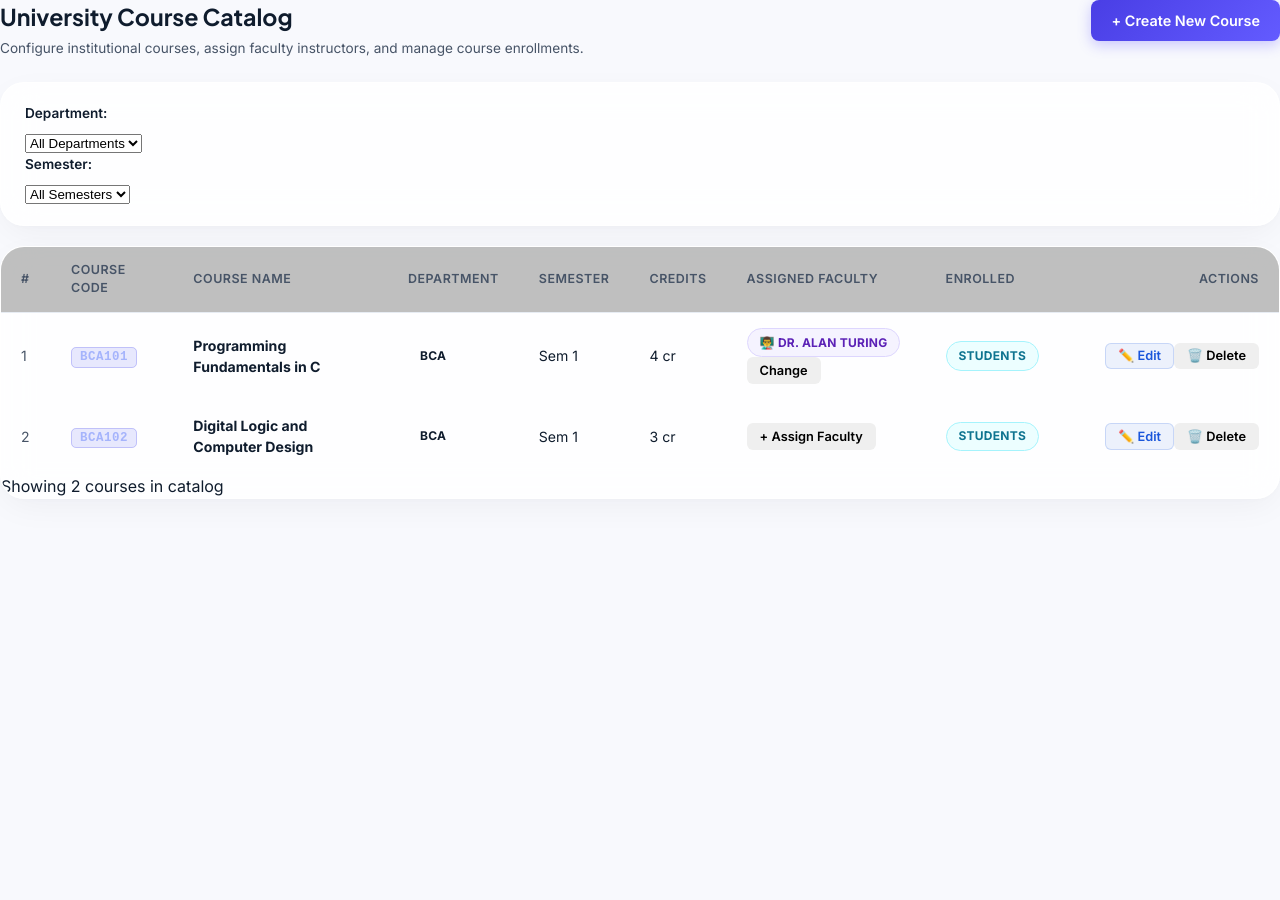
it: Admin Portal — Course Catalog Management Tests › opens Create Course modal, validates input, creates course and refreshes catalog
The image size is (1280, 900).
Expected: the text "BCA101" is shown, top-left (71, 347), bottom-right (137, 368)
// Click "+ Create New Course" button
Click the button "+ Create New Course".
click(1186, 20)  # box top-left (1092, 0), bottom-right (1279, 41)
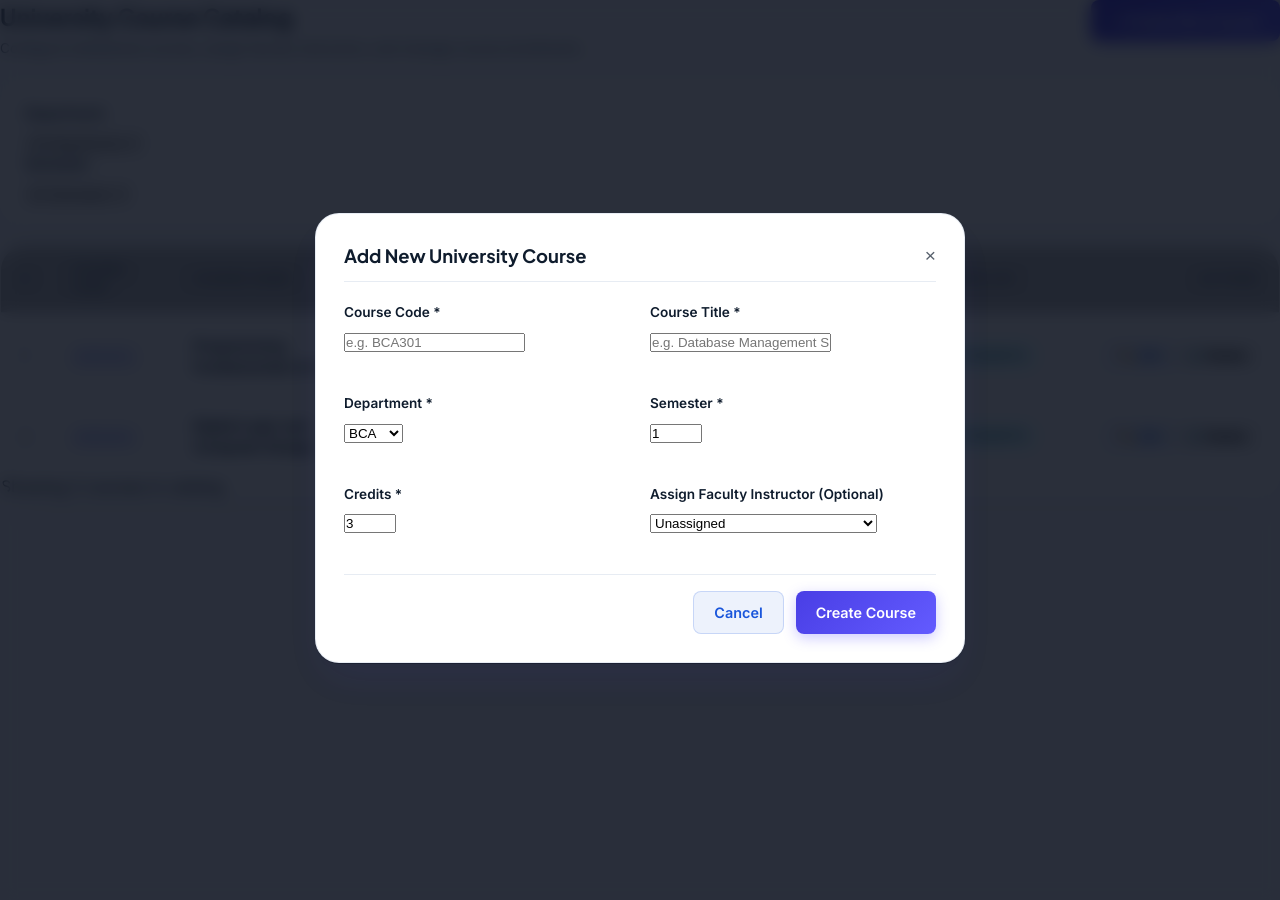
Expected: the heading "Add New University Course" is shown, top-left (344, 242), bottom-right (586, 269)
Type "BCA201" into the field labelled "Course Code *".
click(434, 342); type("BCA201")  # box top-left (344, 333), bottom-right (525, 352)
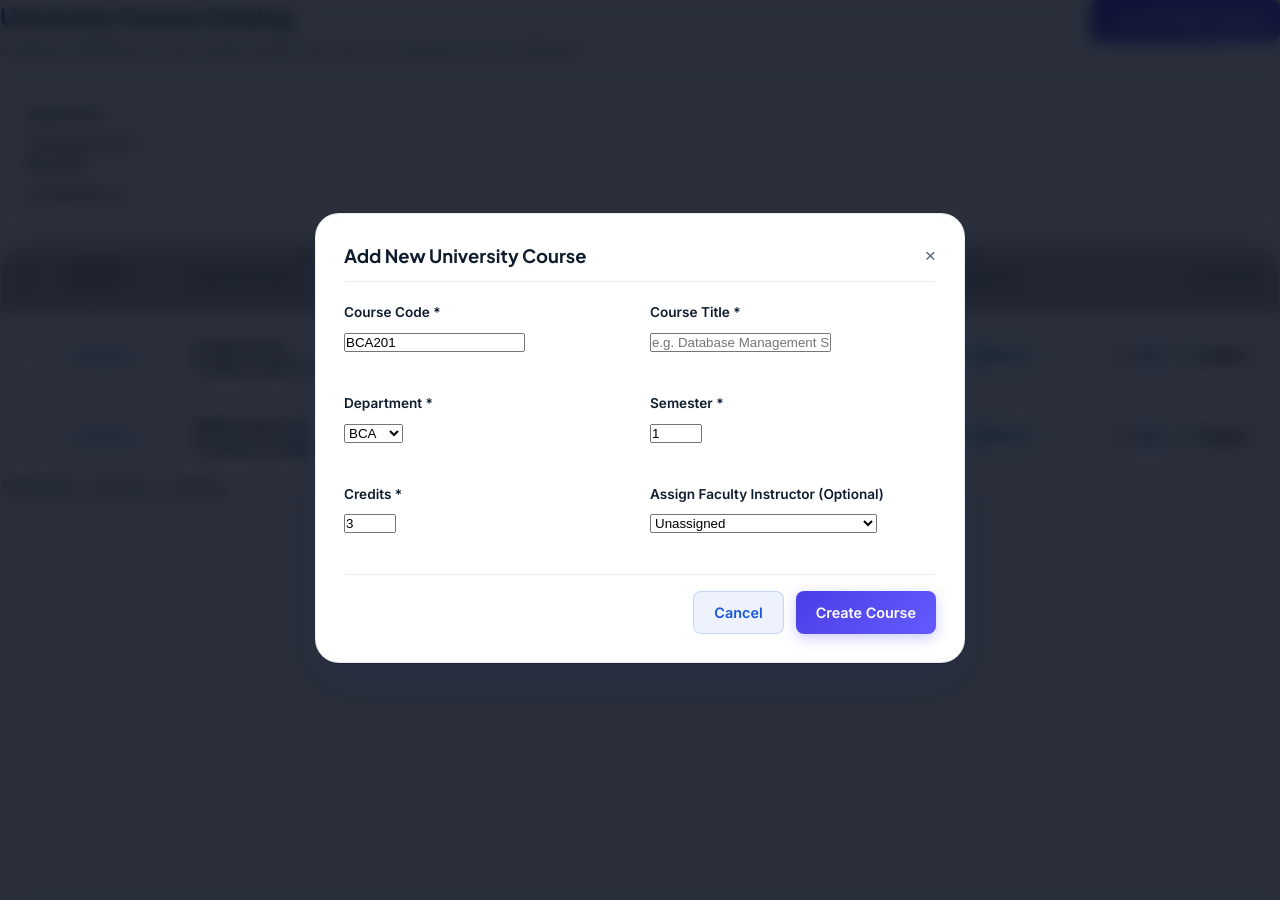
Type "Data Structures and Algorithms" into the field labelled "Course Title *".
click(740, 342); type("Data Structures and Algorithms")  # box top-left (650, 333), bottom-right (831, 352)
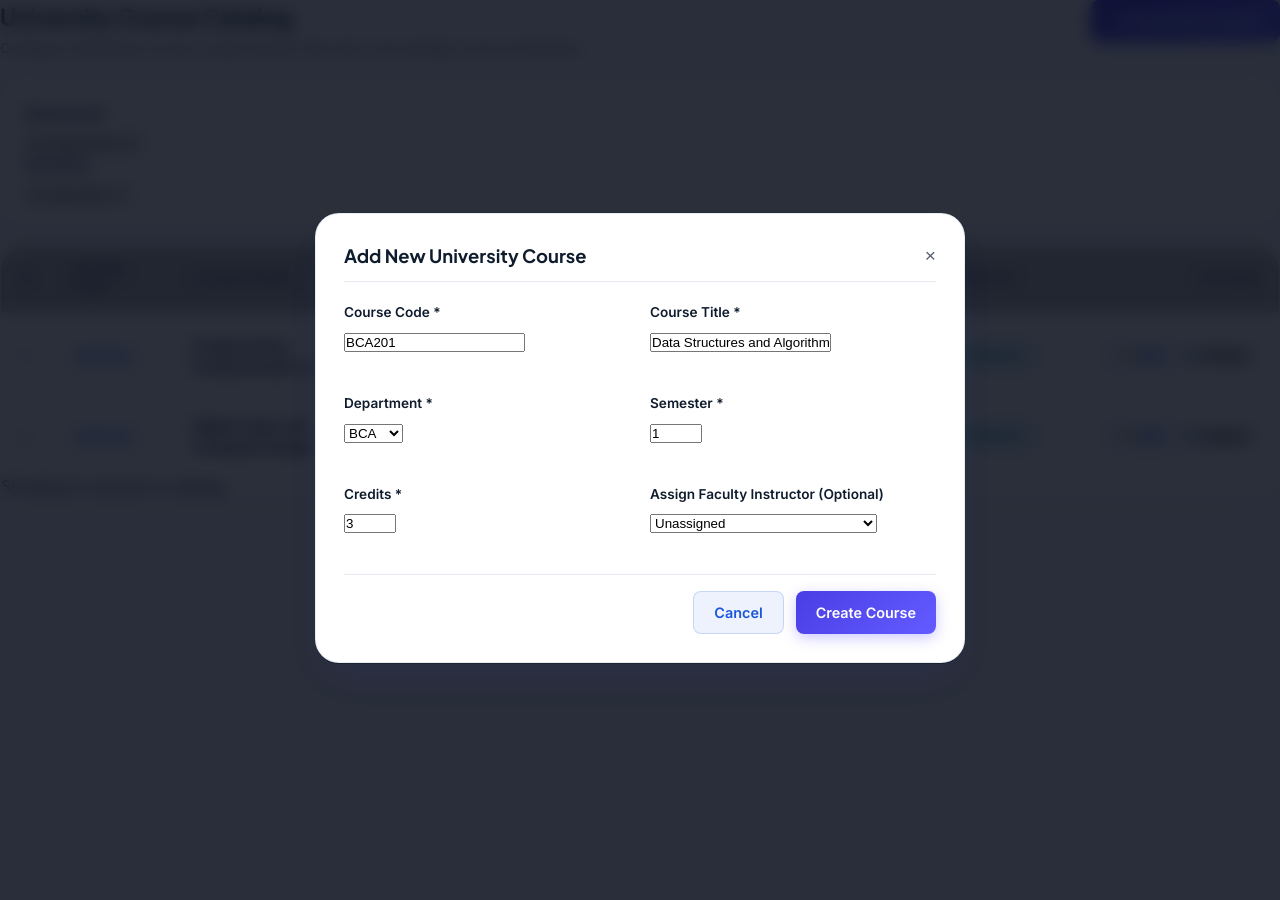
Replace the text in the number field labelled "Semester *" with "2" at (676, 433), box top-left (650, 424), bottom-right (702, 443)
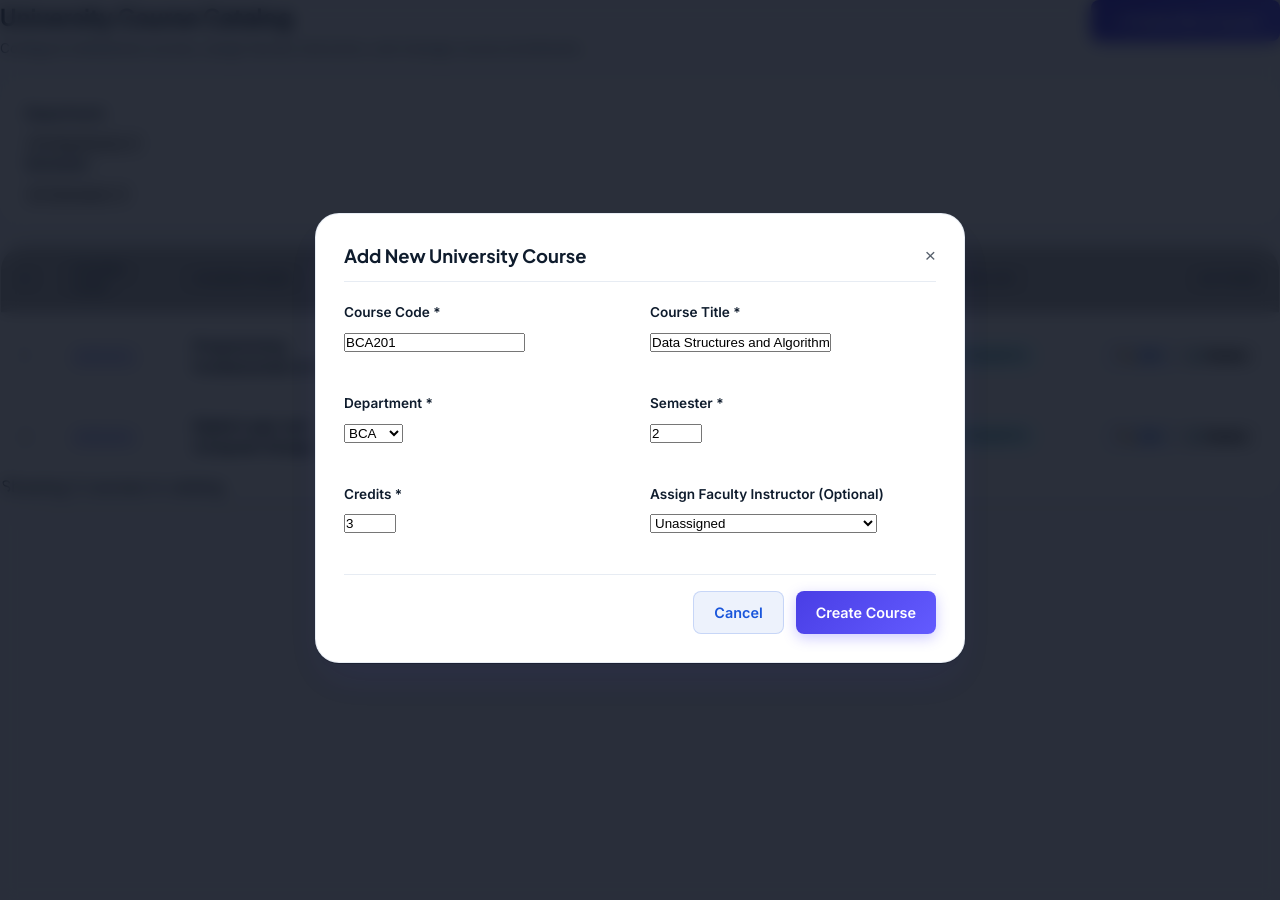
Replace the text in the number field labelled "Credits *" with "4" at (370, 524), box top-left (344, 514), bottom-right (396, 534)
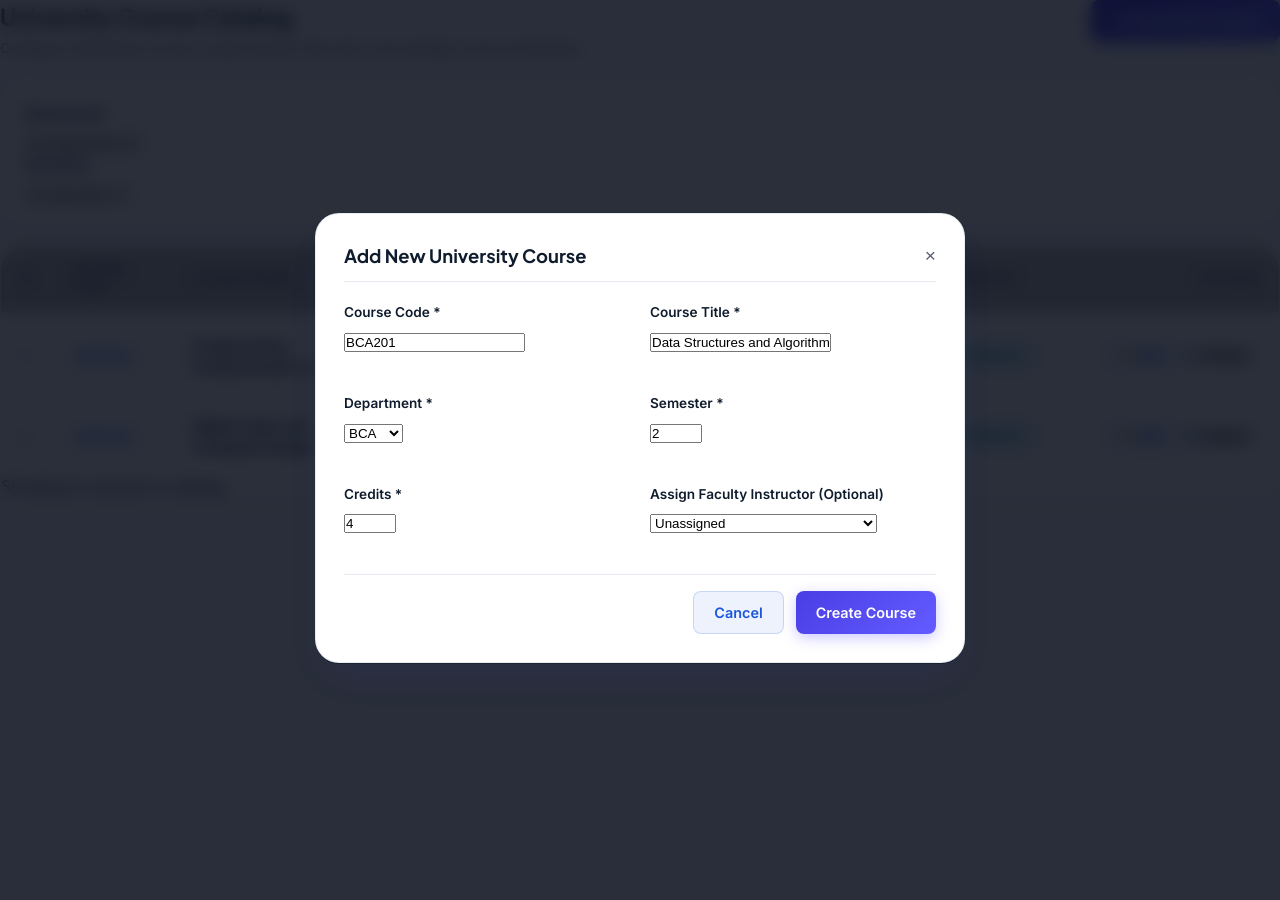
Click the button "Create Course".
click(866, 613)  # box top-left (796, 592), bottom-right (936, 634)
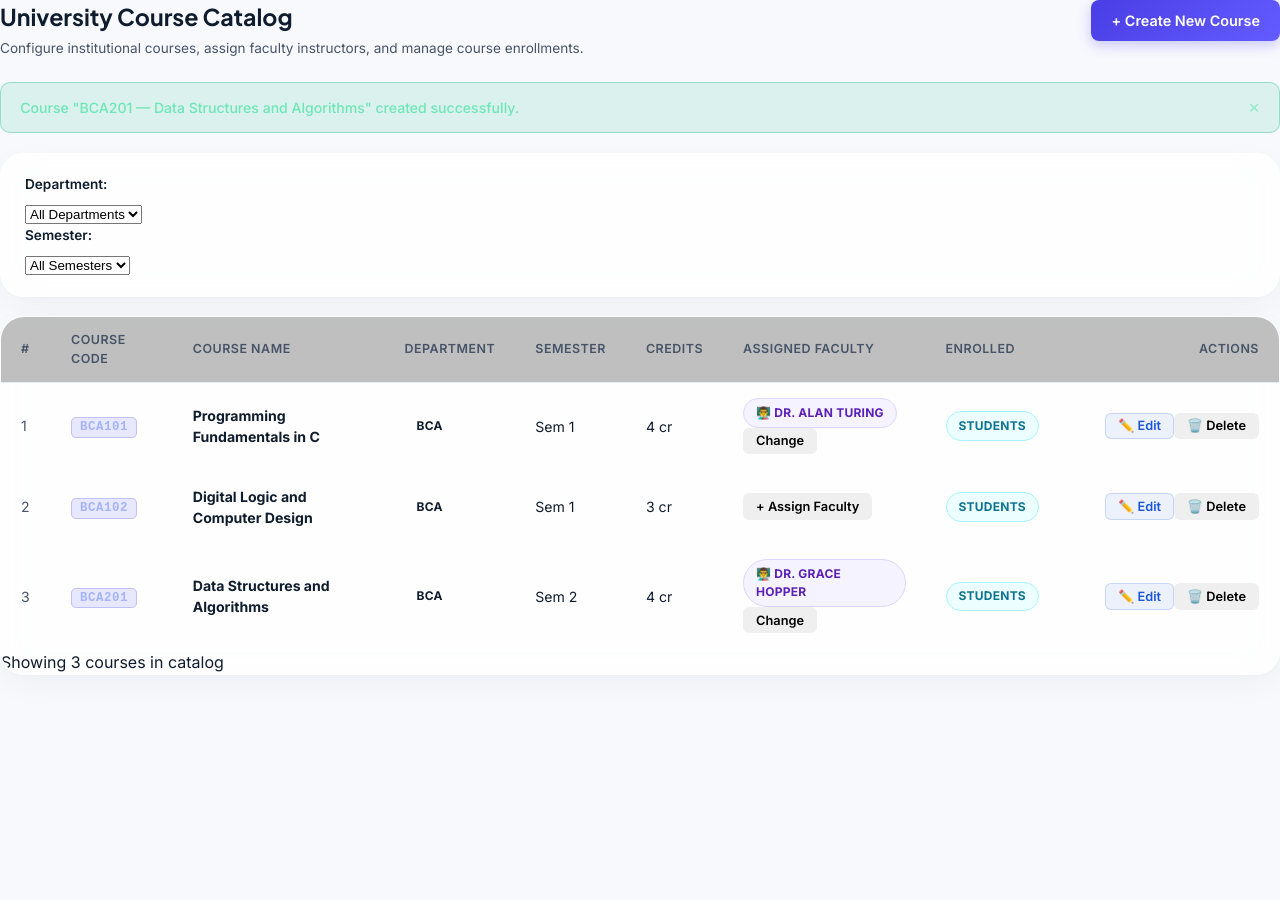
Expected: the text "created successfully" is shown, top-left (20, 99), bottom-right (519, 116)
